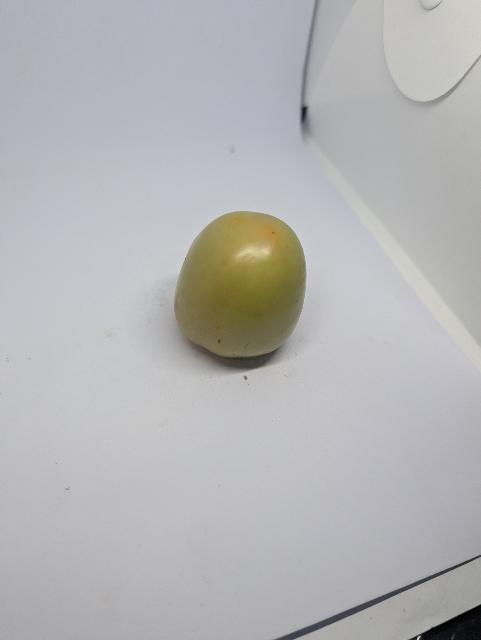breaker: (171, 211, 312, 364)
